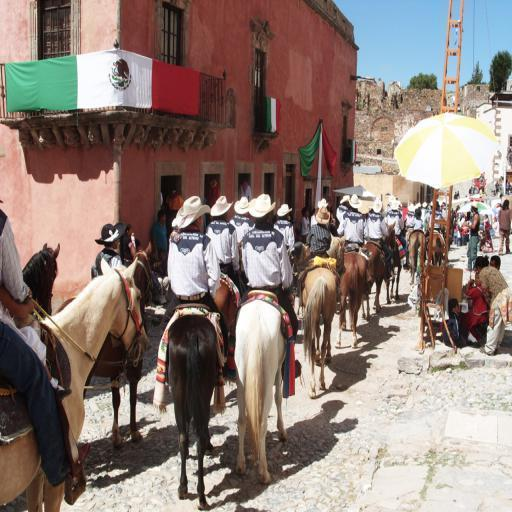horse: (164, 217, 448, 509), (0, 254, 147, 512), (54, 242, 154, 450), (3, 241, 60, 314)
